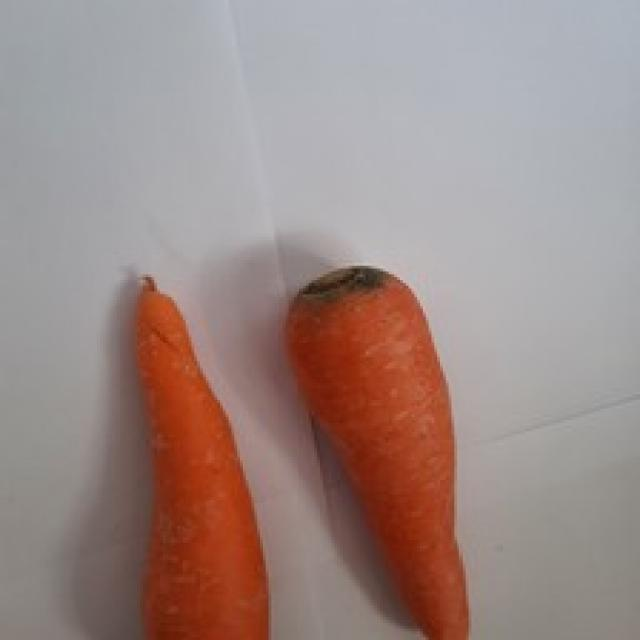Carrot: (289, 266, 468, 640), (138, 276, 269, 639)
